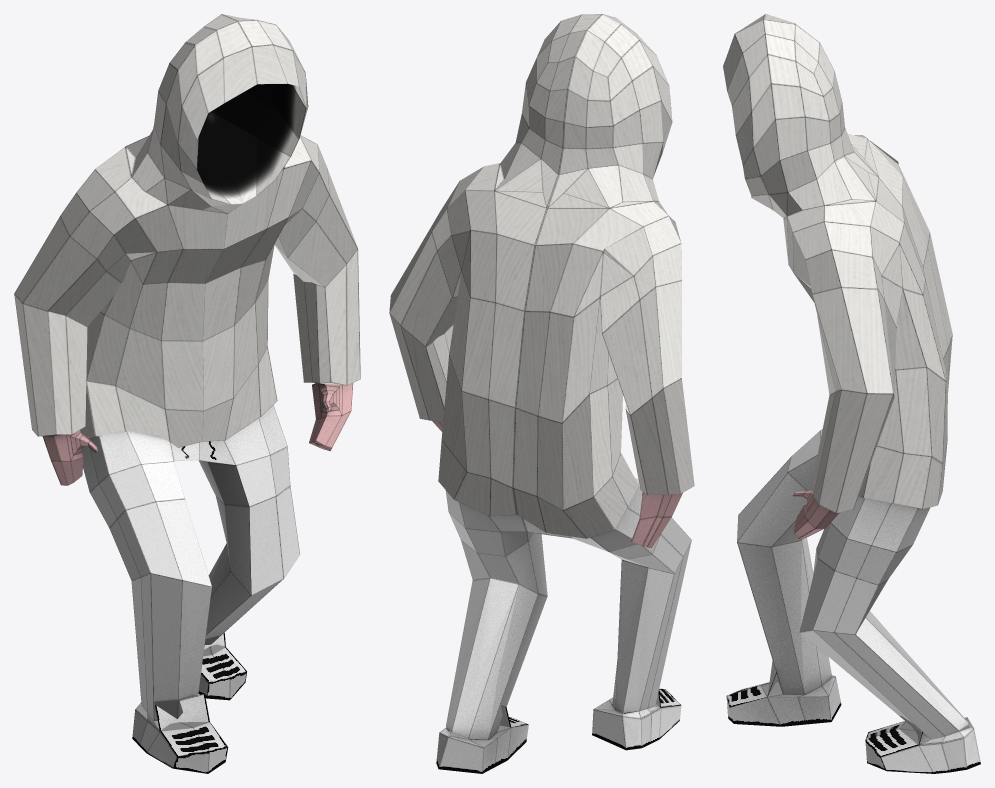
Rendered from Shadowmanv_000006.obj.
3 views of the same model, side by side, from view 1: azimuth 30°, elevation 25°; view 2: azimuth 150°, elevation 25°; view 3: azimuth 270°, elevation 25° (orthographic). The views are drawn at different scales.
Visible parts, largest first — view 1: Cube.000; view 2: Cube.000; view 3: Cube.000.
Boxes of the visible parts, x1,y1,x2,y2 form: Cube.000: (14,14,360,773); Cube.000: (389,14,694,773); Cube.000: (723,14,980,773).
Size of the model in its own units: 4.92 by 10.81 by 3.49.
